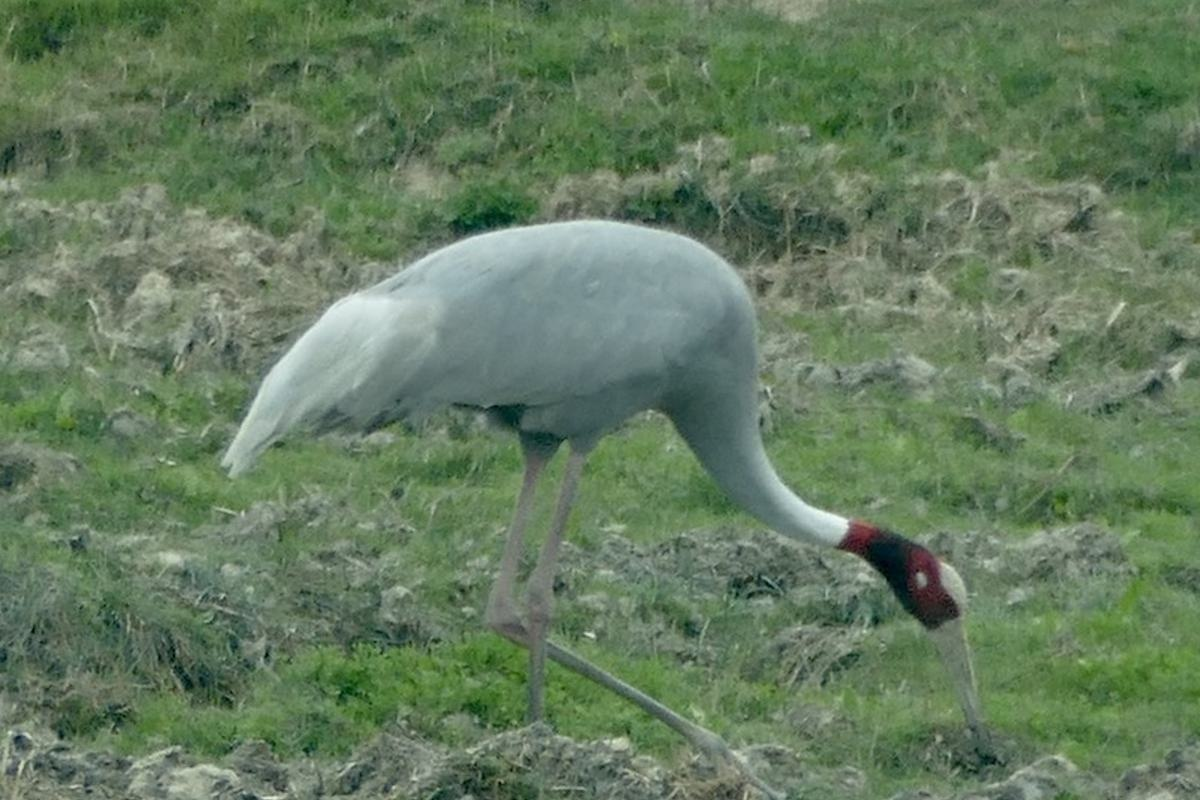crane: (207, 214, 1033, 781)
